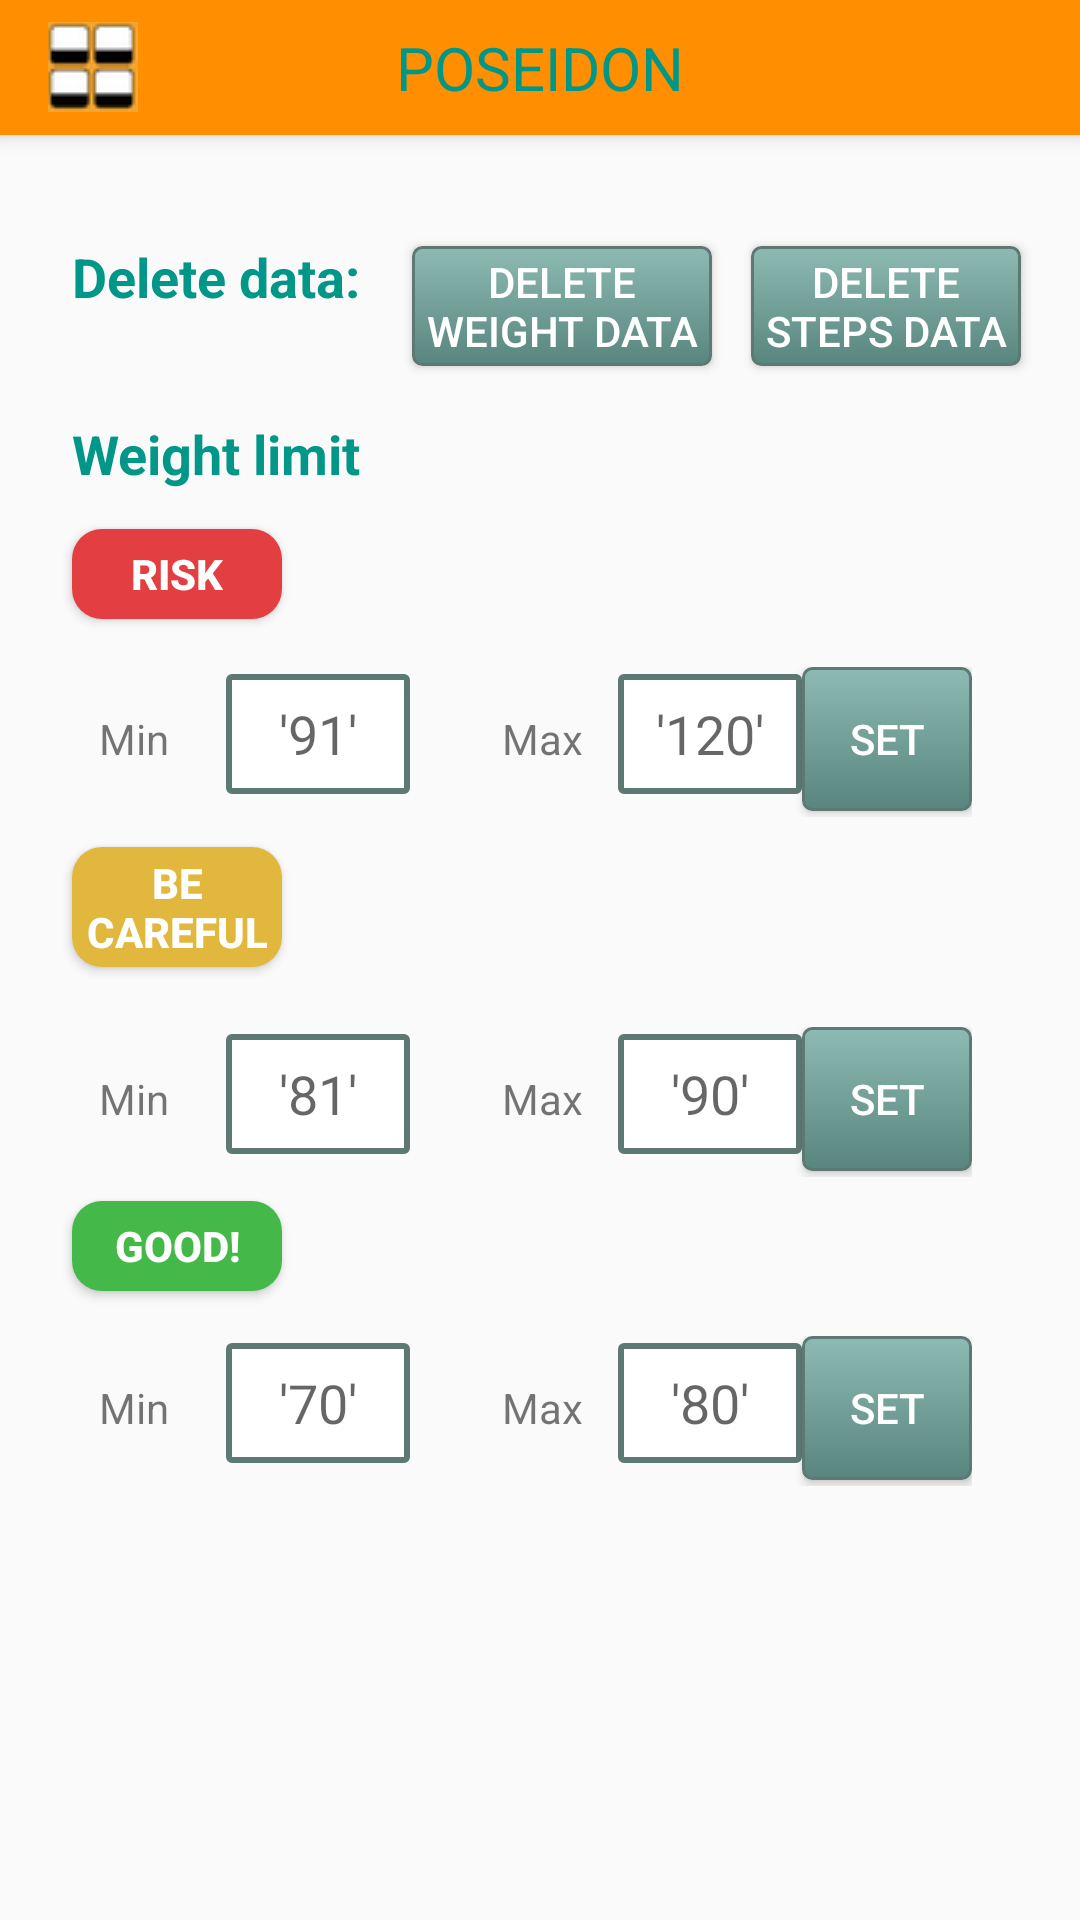

Where icons sit on this 1080×1920 app screen, as (x1, y1, x2, y2):
homebutton: (48, 22, 138, 112)
